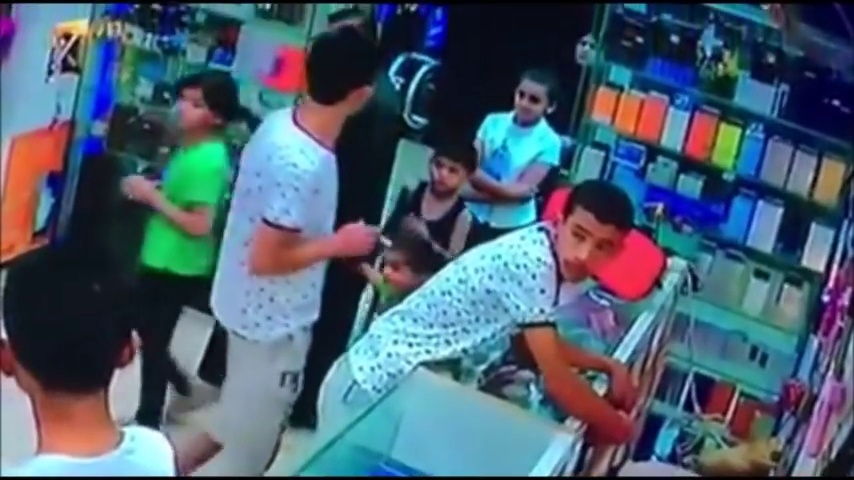face: (560, 209, 602, 278), (430, 156, 461, 194), (516, 81, 544, 121), (574, 32, 595, 61)
